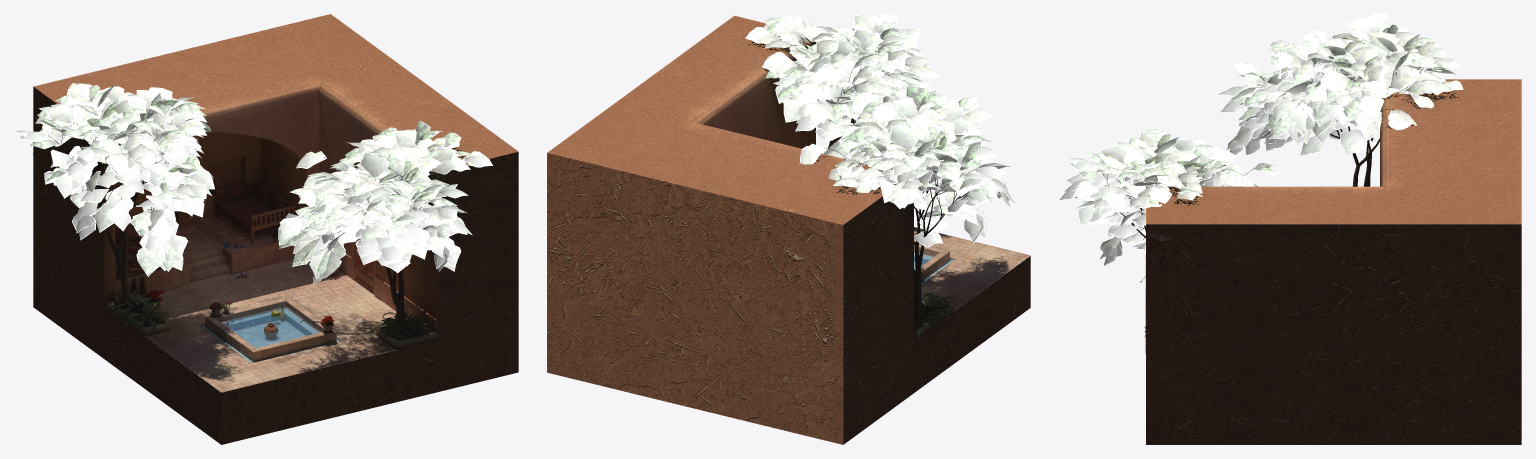
File: an_afternoon_in_a_persian_garden.glb
3 renders of one model, left to right at view 1: azimuth 30°, elevation 25°; view 2: azimuth 150°, elevation 25°; view 3: azimuth 270°, elevation 25°, orthographic.
Parts seen in each view (by area): view 1: Walls.001, polySurface1.003, object0.002_material0.002_0, object0.001_material0.001_0 (×2), Plane.003; view 2: Walls.001, polySurface1.003, object0.001_material0.001_0 (×2), object0.002_material0.002_0; view 3: Walls.001, polySurface1.003, object0.002_material0.002_0, object0.001_material0.001_0.
Part boxes in pixels (x1=…): Walls.001: x1=33, y1=14, x2=518, y2=444; polySurface1.003: x1=15, y1=82, x2=492, y2=284; object0.002_material0.002_0: x1=104, y1=81, x2=438, y2=332; object0.001_material0.001_0 (×2): x1=32, y1=107, x2=506, y2=392; Plane.003: x1=221, y1=306, x2=319, y2=347; Walls.001: x1=547, y1=15, x2=1030, y2=444; polySurface1.003: x1=745, y1=14, x2=1014, y2=247; object0.001_material0.001_0 (×2): x1=795, y1=31, x2=1030, y2=340; object0.002_material0.002_0: x1=690, y1=37, x2=867, y2=165; Walls.001: x1=1146, y1=79, x2=1521, y2=444; polySurface1.003: x1=1059, y1=14, x2=1463, y2=266; object0.002_material0.002_0: x1=1146, y1=98, x2=1387, y2=187; object0.001_material0.001_0: x1=1094, y1=48, x2=1436, y2=336.
Bounding box in the file's own units: 1801 × 1269 × 1919.
Materials: 5 (4 with a texture image).
